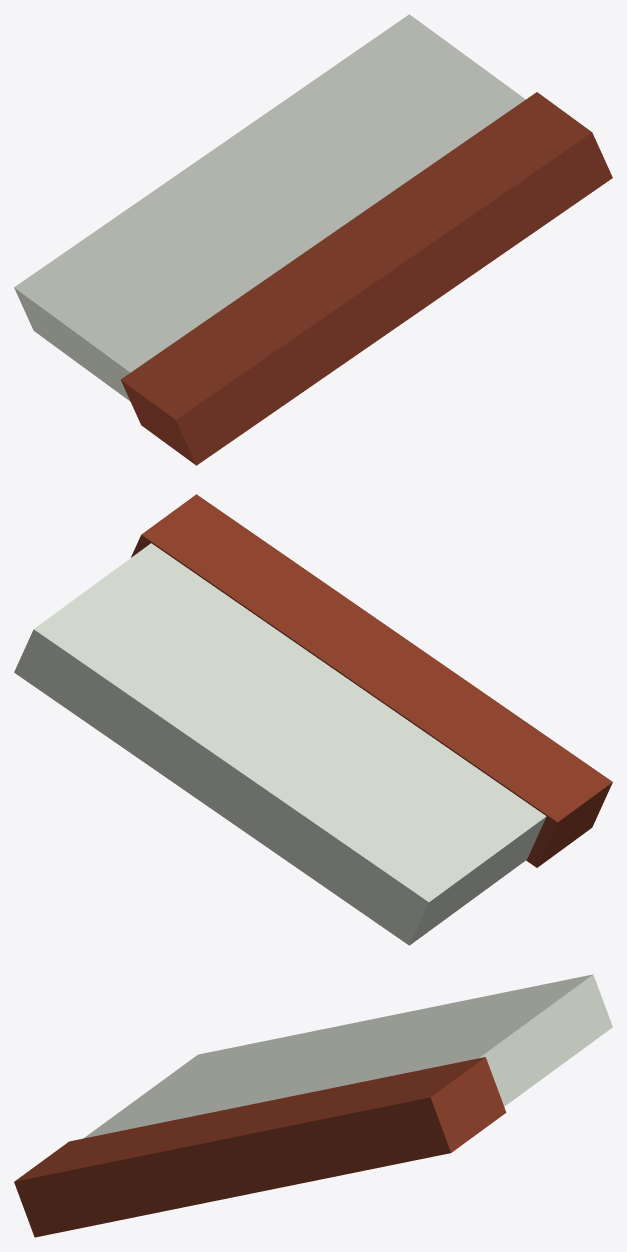
The model's file is badge.glb.
3 renders of one model, top to bottom at view 1: azimuth 30°, elevation 25°; view 2: azimuth 150°, elevation 25°; view 3: azimuth 330°, elevation 25°, orthographic.
Visible parts, largest first — view 1: Cube.007, Cube.008; view 2: Cube.007, Cube.008; view 3: Cube.008, Cube.007.
Boxes of the visible parts, box(x1,y1,x2,y2) form: Cube.007: box(14, 14, 525, 400); Cube.008: box(121, 92, 612, 465); Cube.007: box(14, 543, 546, 945); Cube.008: box(131, 494, 612, 867); Cube.008: box(14, 1057, 506, 1237); Cube.007: box(83, 974, 612, 1138).
Size of the model in its own units: 0.3102 by 0.1606 by 0.2125.
